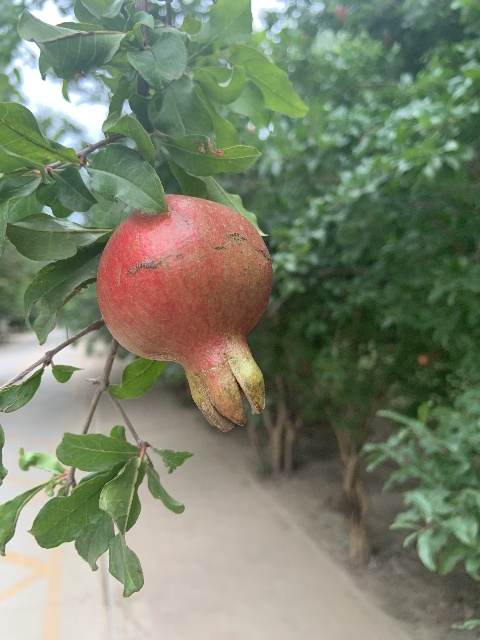ripe: (96, 194, 273, 432)
